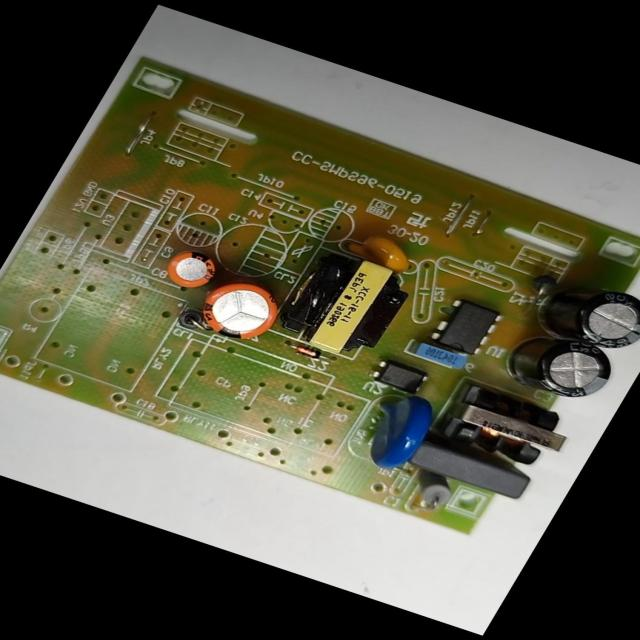Cap1: (184, 272, 294, 352)
Cap2: (156, 245, 223, 295)
Cap3: (495, 326, 625, 410)
Cap4: (528, 270, 639, 358)
MOSFET: (420, 292, 507, 360)
Mov: (337, 384, 447, 480)
Resistor: (400, 469, 460, 514)
Transformer: (272, 246, 420, 364), (432, 382, 583, 478)
